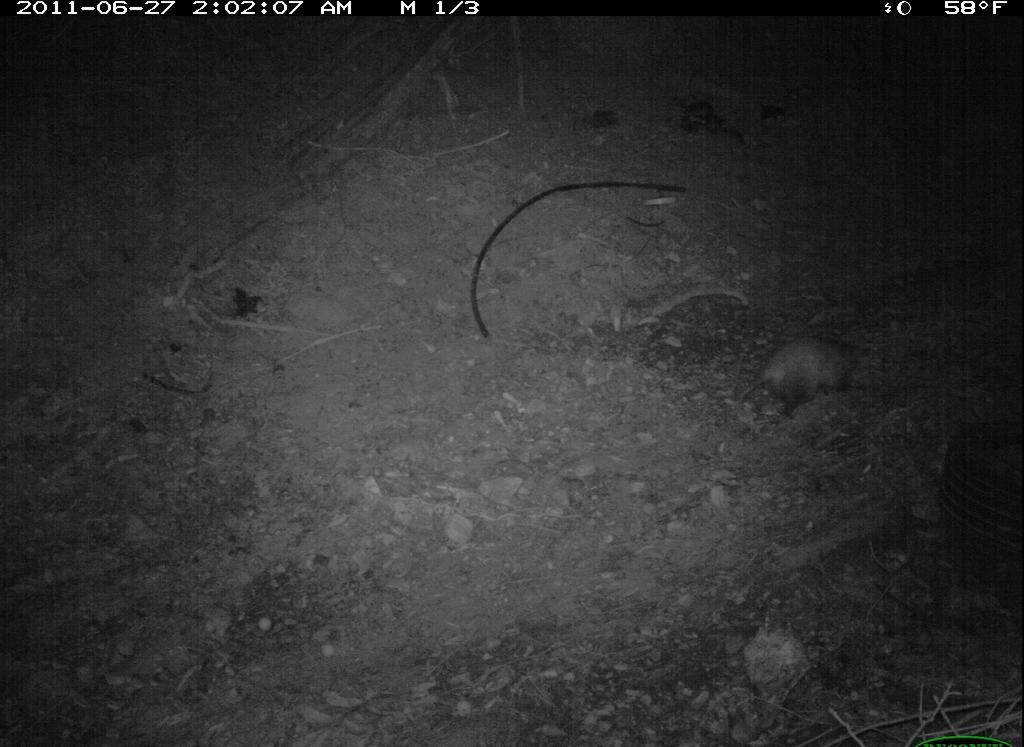opossum: (730, 332, 875, 422)
